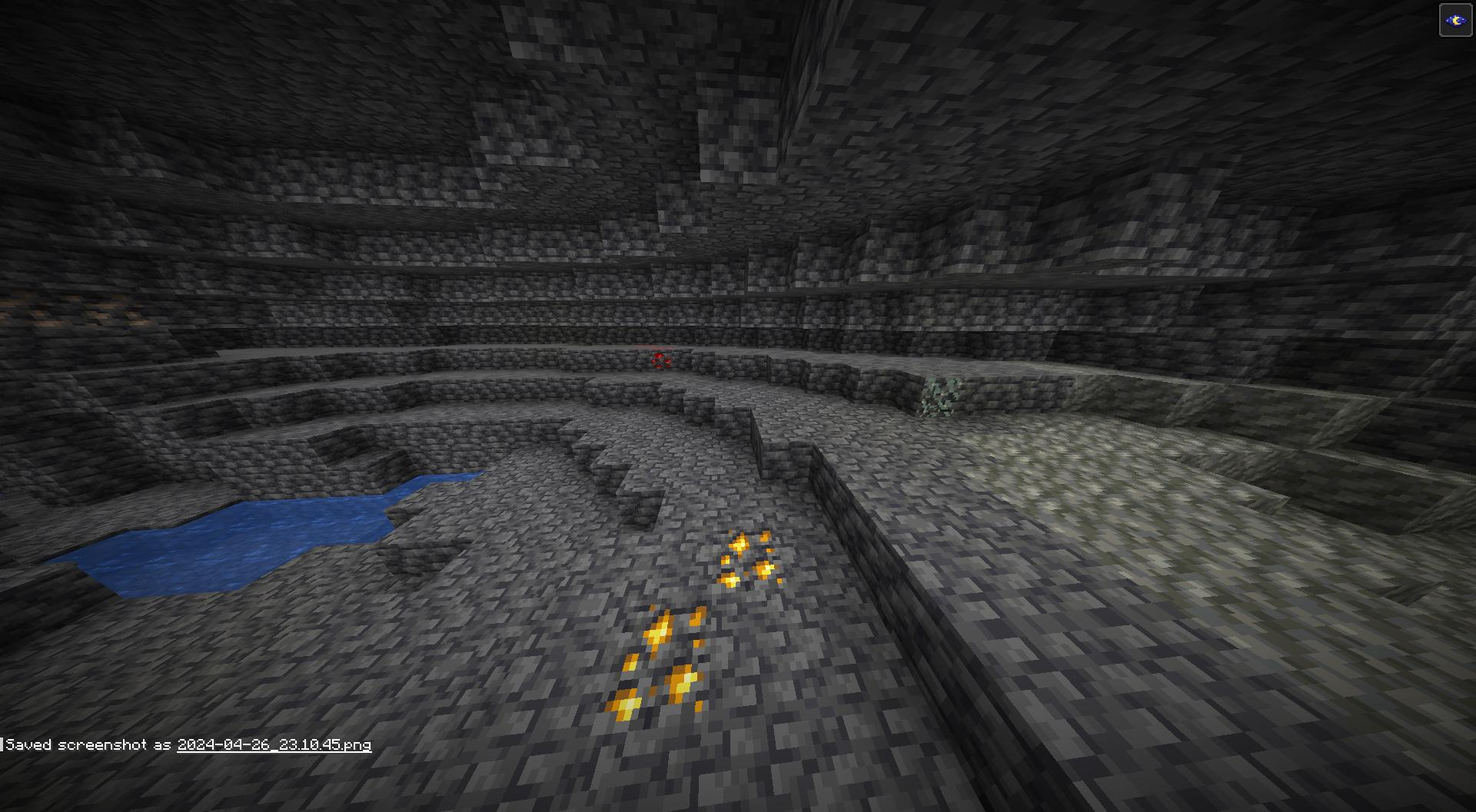gold ore: (606, 600, 706, 714), (718, 523, 786, 590)
iron ore: (0, 278, 160, 335)
redstone ore: (640, 342, 681, 372)
